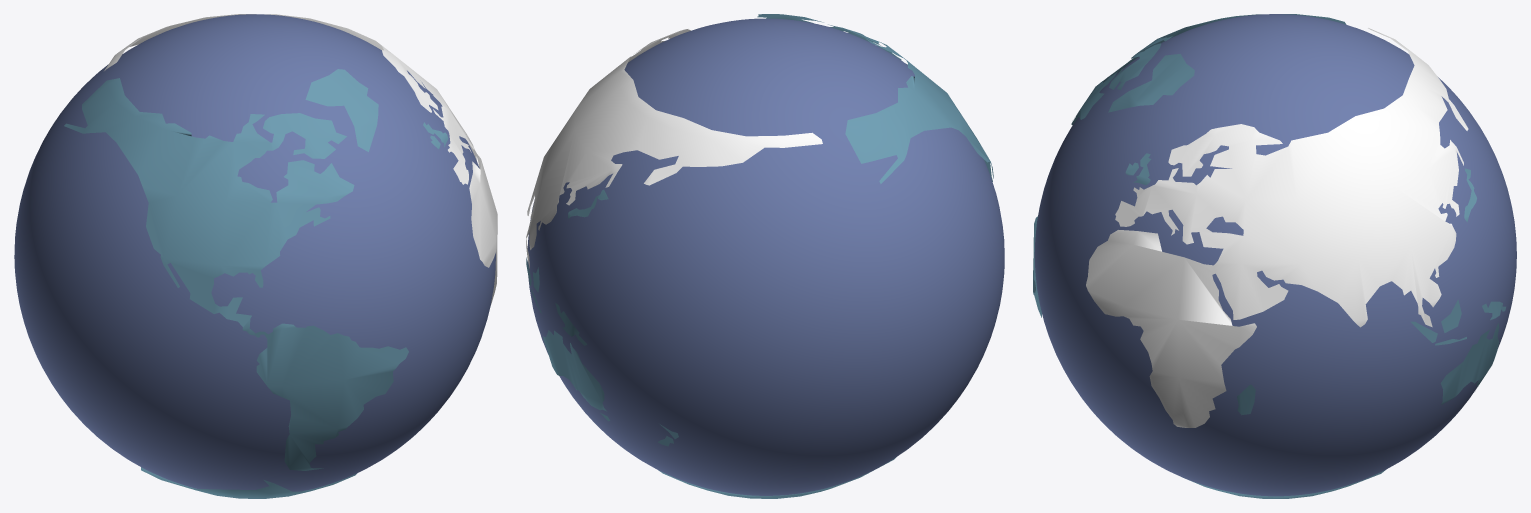
File: globe.dae
3 renders of one model, left to right at view 1: azimuth 30°, elevation 25°; view 2: azimuth 150°, elevation 25°; view 3: azimuth 270°, elevation 25°, orthographic.
Visible parts, largest first — view 1: globe, northamerica, group_0_019, group_0_021, group_0_026; view 2: globe, group_0_019, northamerica, group_0_017, group_0_026; view 3: globe, group_0_019, northamerica, group_0_021, group_0_017.
Part boxes in pixels (box(x1,y1,x2,y2)): globe: box(14, 14, 495, 491); northamerica: box(64, 78, 408, 470); group_0_019: box(104, 14, 497, 305); group_0_021: box(305, 69, 378, 151); group_0_026: box(141, 467, 357, 498); globe: box(527, 18, 1004, 495); group_0_019: box(526, 29, 822, 268); northamerica: box(828, 24, 993, 183); group_0_017: box(543, 330, 606, 411); group_0_026: box(658, 457, 896, 498); globe: box(1034, 14, 1516, 496); group_0_019: box(1086, 28, 1468, 427); northamerica: box(1033, 14, 1346, 317); group_0_021: box(1108, 54, 1194, 112); group_0_017: box(1440, 323, 1499, 404).
Bounding box in the file's own units: 41.89 × 42 × 41.95.
